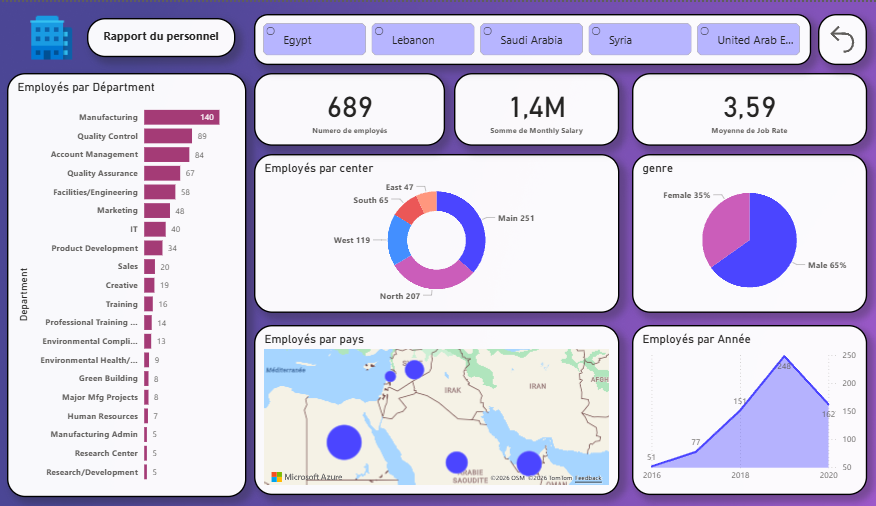

What the dashboard file says about the page in this screenshot:
{"tool":"powerbi","page":{"name":"Rapport du personnel","canvas":[1280,720],"ordinal":1},"visuals":[{"type":"clusteredBarChart","title":"Employés par Départment","fields":{"Category":["EmpTable.Department"],"Y":["CountNonNull(EmpTable.No)"]},"box":[14.5,101.6,342.5,606.3],"z":0},{"type":"donutChart","title":"Employés par center","fields":{"Category":["EmpTable.Center"],"Y":["CountNonNull(EmpTable.No)"]},"box":[366.7,216.6,521.5,227.5],"z":1000},{"type":"pieChart","title":"genre","fields":{"Category":["EmpTable.Gender"],"Y":["CountNonNull(EmpTable.Gender)"]},"box":[907.1,217.1,335.7,227.1],"z":2000},{"type":"azureMap","title":"Employés par pays","fields":{"Size":["Sum(EmpTable.No)"],"Category":["EmpTable.Country"]},"box":[366.7,461,521.5,243.2],"z":3000},{"type":"areaChart","title":"Employés par Année","fields":{"Y2":["CountNonNull(EmpTable.No)"],"Category":["EmpTable.Start Date.Variation.Hiérarchie de dates.Année","EmpTable.Start Date.Variation.Hiérarchie de dates.Trimestre","EmpTable.Start Date.Variation.Hiérarchie de dates.Mois","EmpTable.Start Date.Variation.Hiérarchie de dates.Jour"]},"box":[907.1,461.4,335.7,242.9],"z":4000},{"type":"card","fields":{"Values":["CountNonNull(EmpTable.No)"]},"box":[366.7,101.6,273.5,104.1],"z":5000},{"type":"card","fields":{"Values":["Sum(EmpTable.Monthly Salary)"]},"box":[652.2,101.6,236,104.1],"z":6000},{"type":"card","fields":{"Values":["Avg(EmpTable.Job Rate)"]},"box":[907.1,101.4,335.7,104.3],"z":7000},{"type":"advancedSlicerVisual","fields":{"Values":["EmpTable.Country"]},"box":[367.1,17.1,795.7,72.9],"z":8000},{"type":"textbox","box":[128.3,23,211.8,55.7],"z":9000},{"type":"image","box":[26.6,10.9,101.6,78.7],"z":10000},{"type":"actionButton","box":[1172.9,17.1,70,72.9],"z":10001}]}

Visuals, with their boxes in screenshot pixels (x1, y1, x2, y2), scaled from the page's 1280x720 canvas onto the 876x506 screenshot:
"Employés par Départment" clusteredBarChart: box(10, 71, 244, 497)
"Employés par center" donutChart: box(251, 152, 608, 312)
"genre" pieChart: box(621, 153, 851, 312)
"Employés par pays" azureMap: box(251, 324, 608, 495)
"Employés par Année" areaChart: box(621, 324, 851, 495)
card - CountNonNull(EmpTable.No): box(251, 71, 438, 145)
card - Sum(EmpTable.Monthly Salary): box(446, 71, 608, 145)
card - Avg(EmpTable.Job Rate): box(621, 71, 851, 145)
advancedSlicerVisual - EmpTable.Country: box(251, 12, 796, 63)
textbox: box(88, 16, 233, 55)
image: box(18, 8, 88, 63)
actionButton: box(803, 12, 851, 63)
